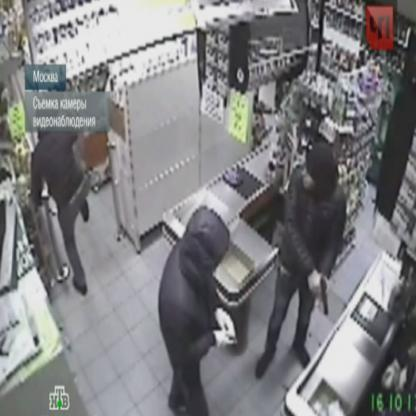pistols: (312, 276, 336, 320)
